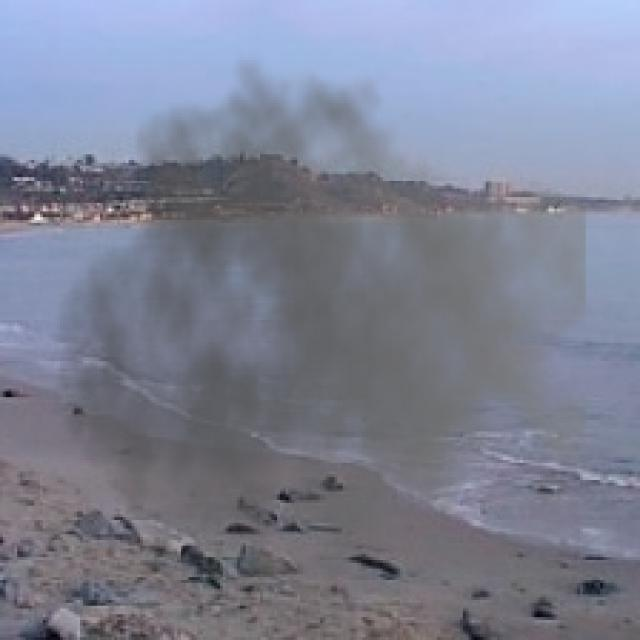Smoke: (54, 51, 586, 620)
